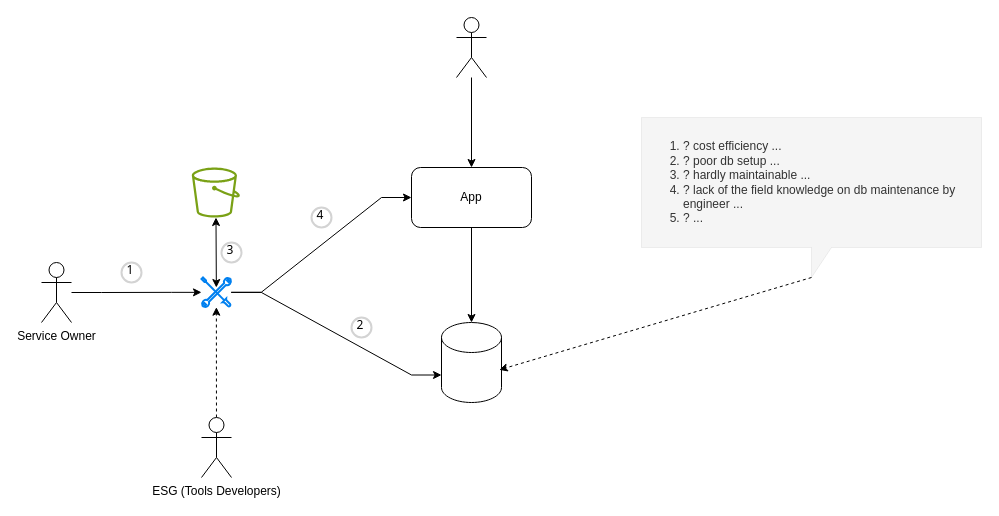
Image size: 999x516. Some labels were removed from this diagram. The centre of each missing label's shape, as x and y in pixels:
"Customers" belongs at (x=471, y=47).
"RDS (instance)" belongs at (x=471, y=362).
"Tools (wagon)" belongs at (x=216, y=292).
